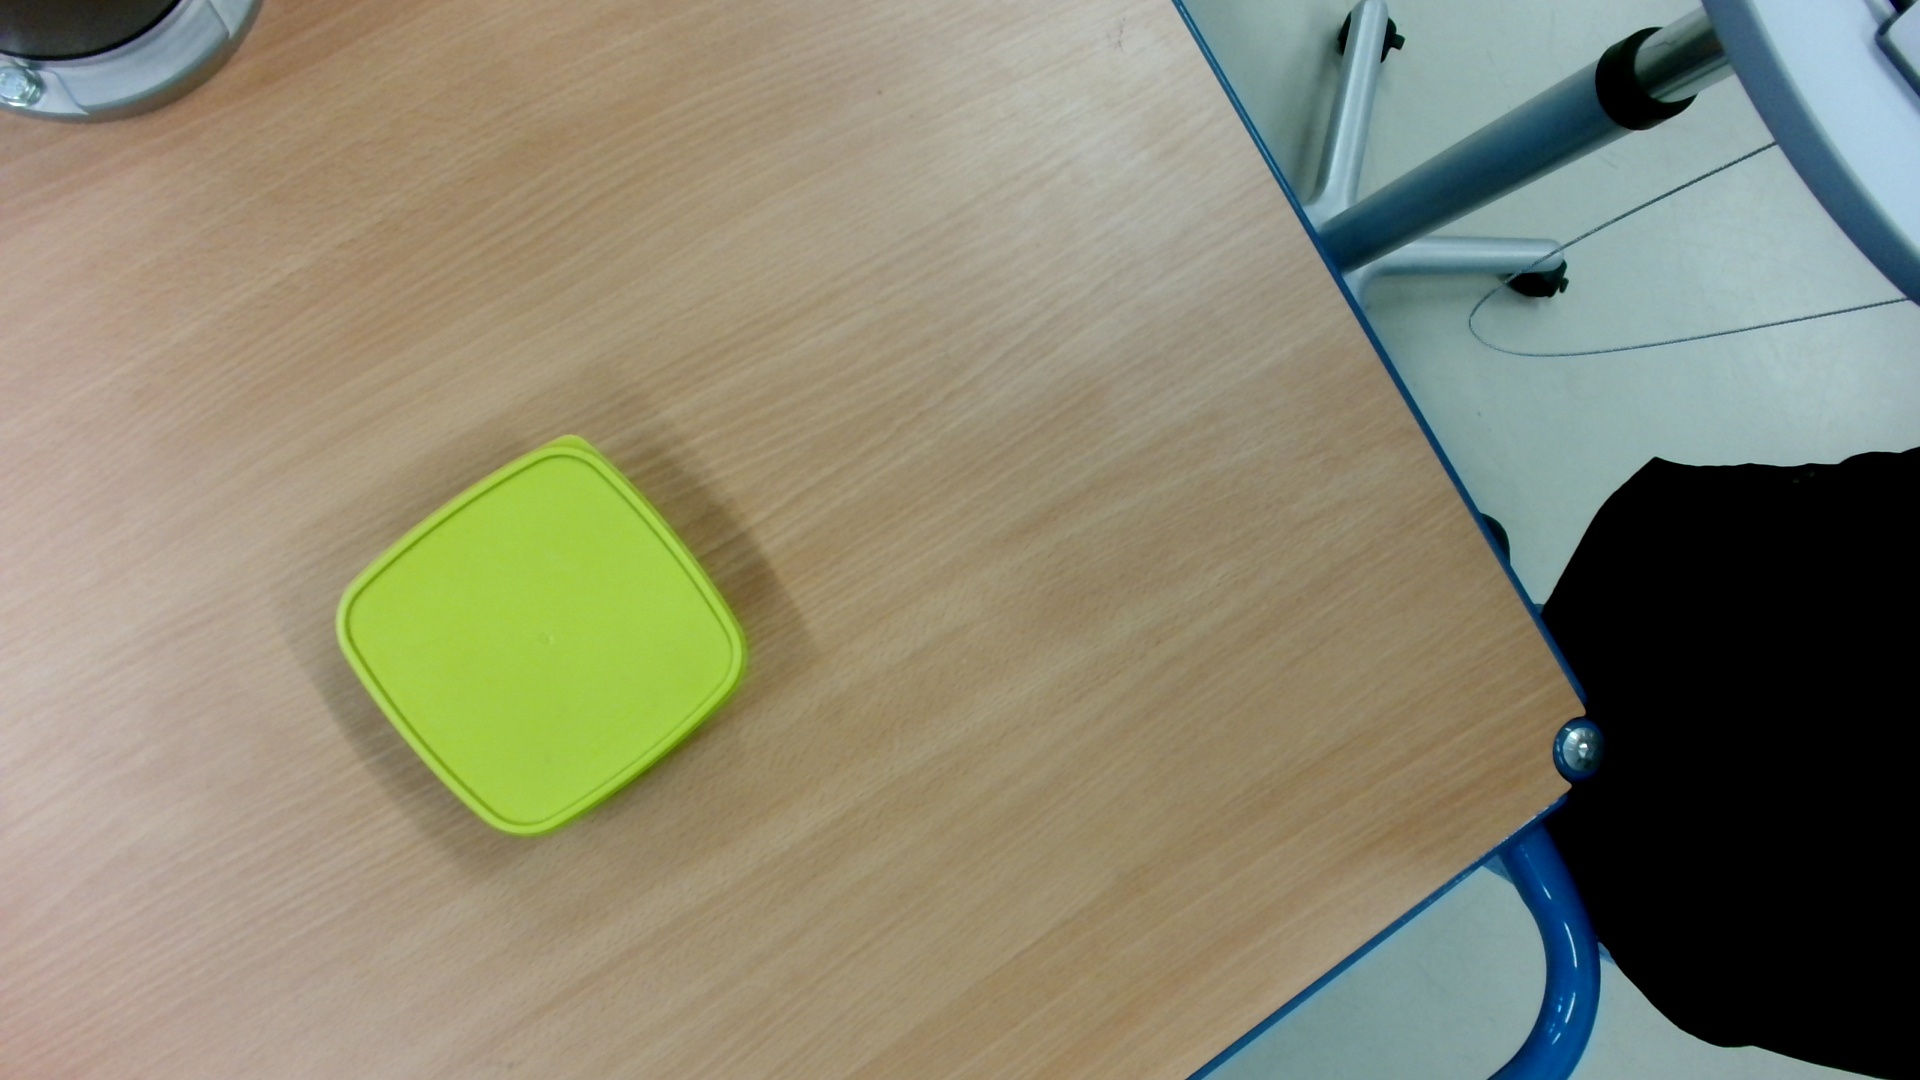Box: (328, 429, 757, 847)
